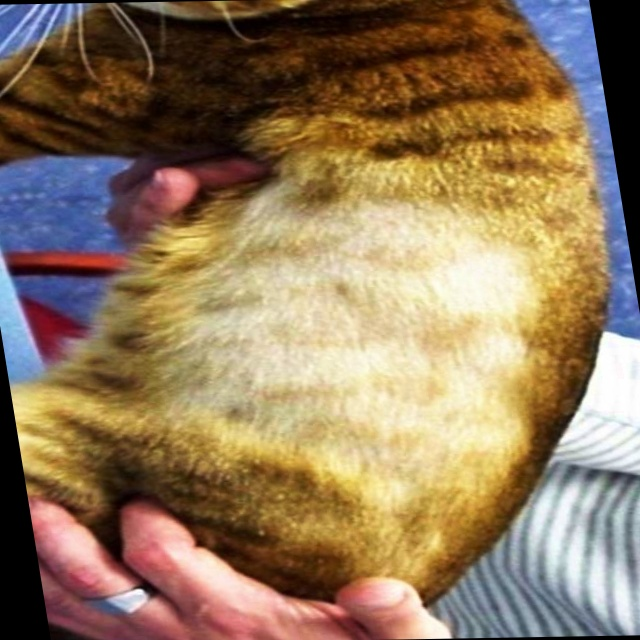hairloss: (143, 185, 589, 440)
